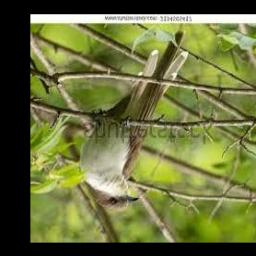Cuckoo: (81, 32, 190, 211)
